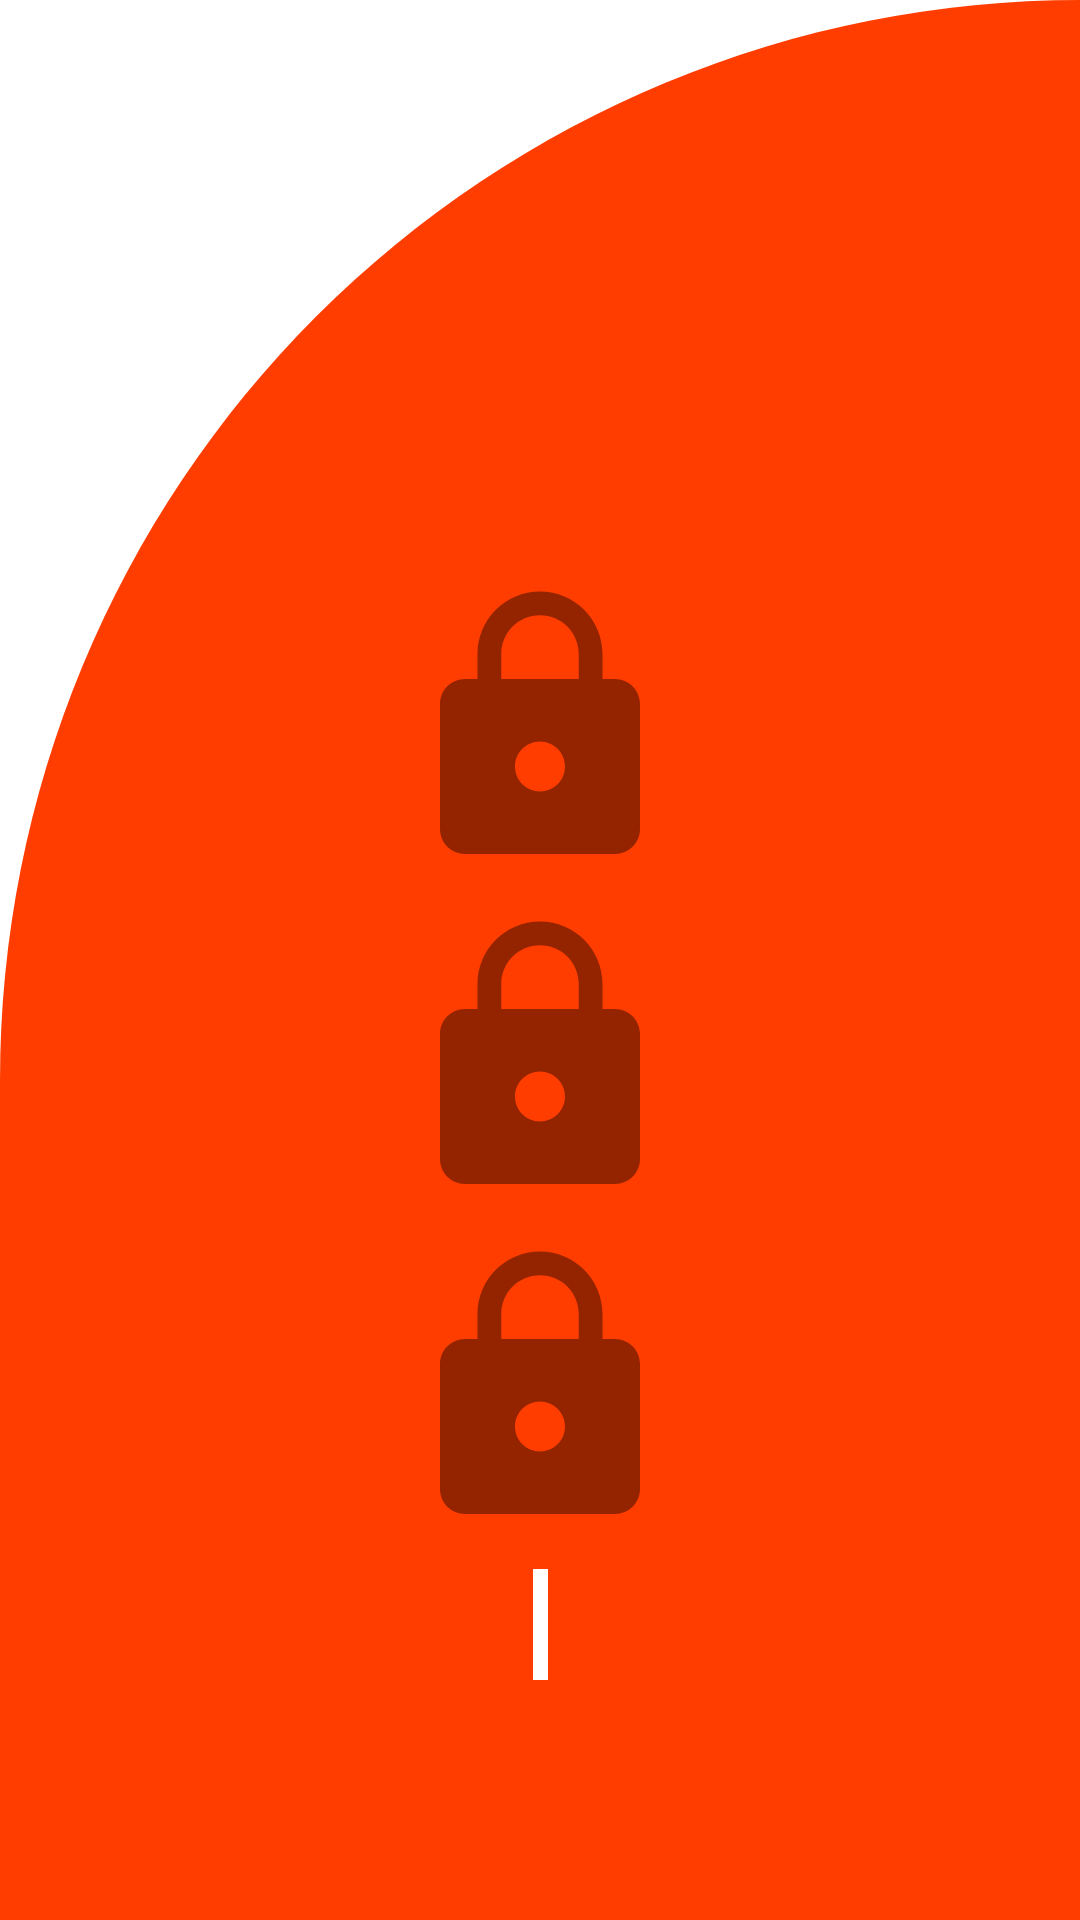

Icon bounding boxes for this 1080 × 1920 phone screenshot, format (x1, y1, x2, y2):
lock: (440, 591, 640, 854), (440, 921, 640, 1184), (440, 1251, 640, 1514)
